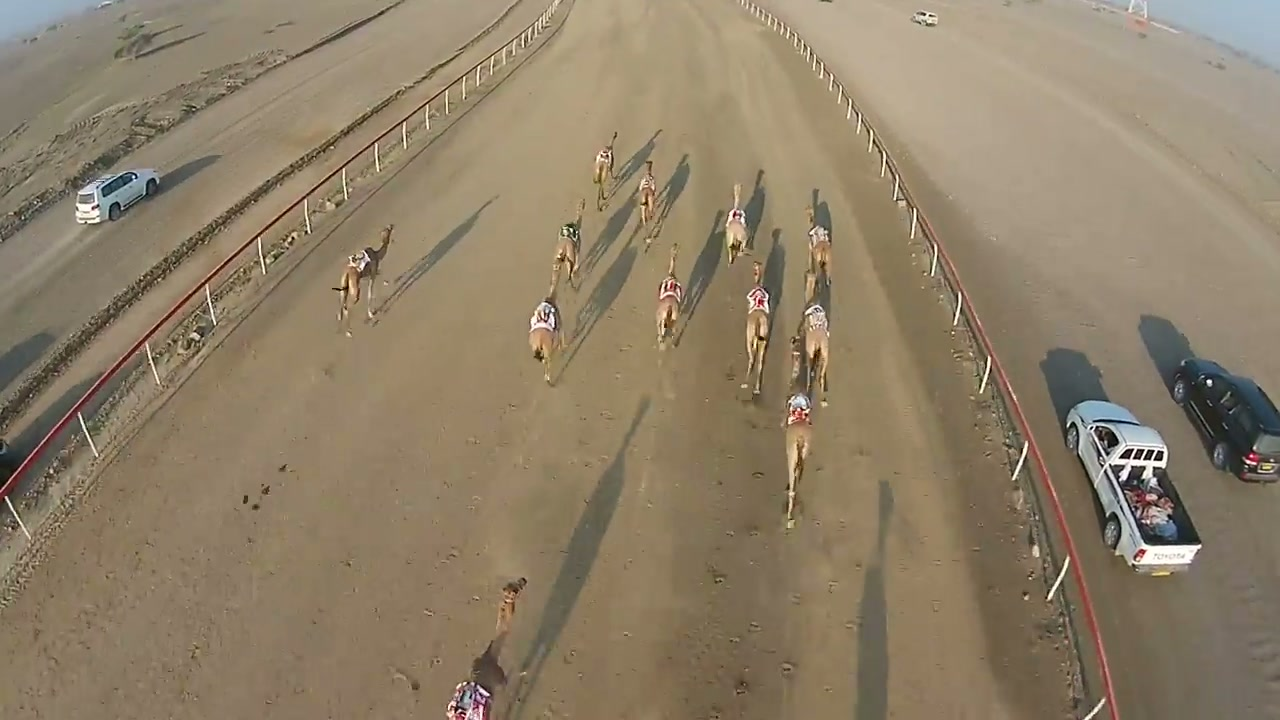animal_foot_print: (702, 398, 880, 688), (397, 397, 506, 678)
